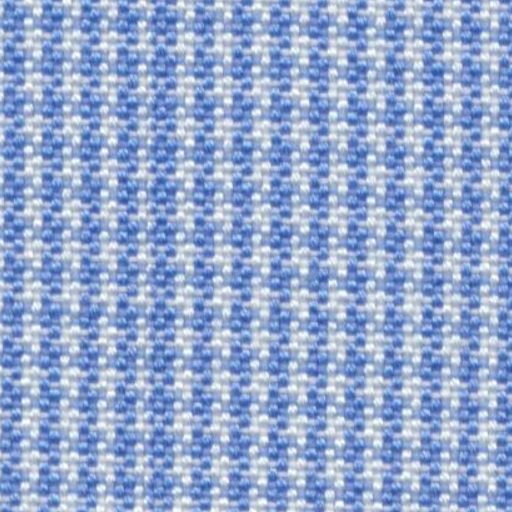TuoSha: (101, 10, 192, 507)
